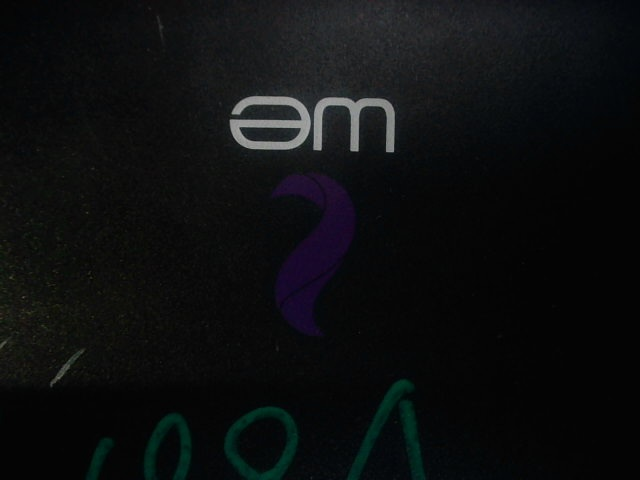AT_We: (222, 95, 405, 335)
